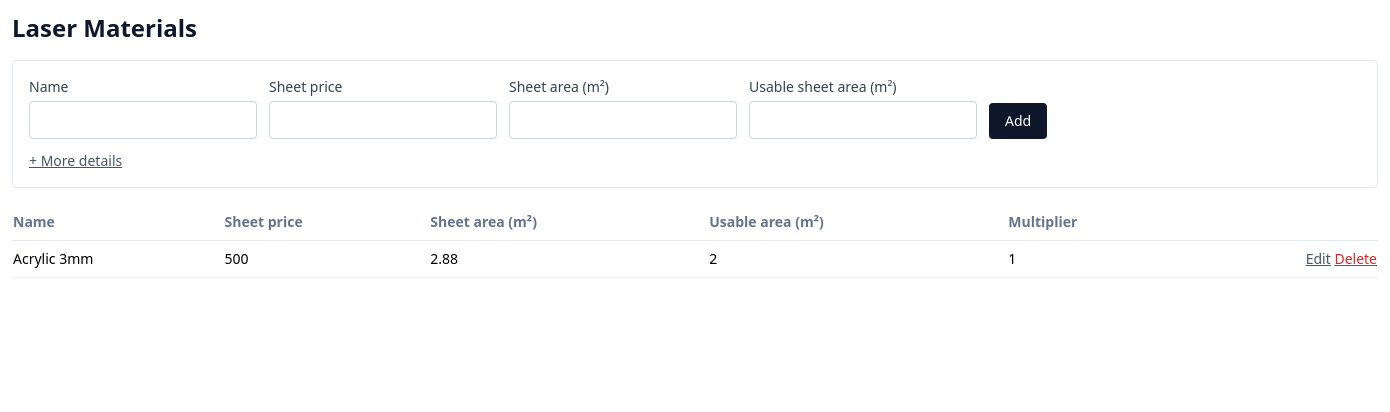
Scenario: LaserMaterialsListPage — edit in place › clicking Edit shows that row pre-filled with its current values
expect the text "Acrylic 3mm" is shown: met, box 12,240 -> 224,278
Click the button "Edit" at (1318, 259), box 1306,249 -> 1331,269
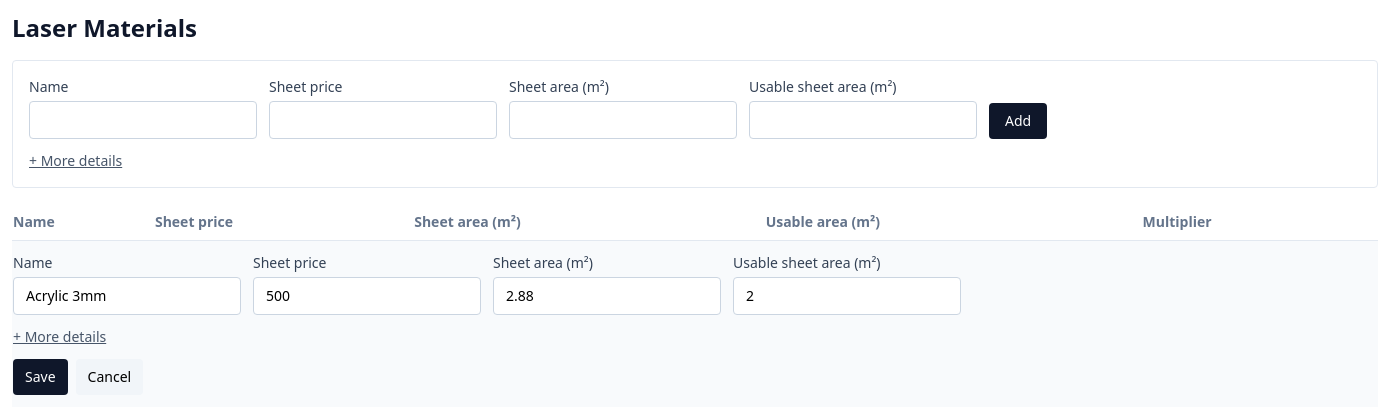
expect the 2nd field labelled "Name" holds "Acrylic 3mm": met, box 13,277 -> 241,315
expect the 2nd number field labelled "Sheet price" holds "500": met, box 253,277 -> 481,315
